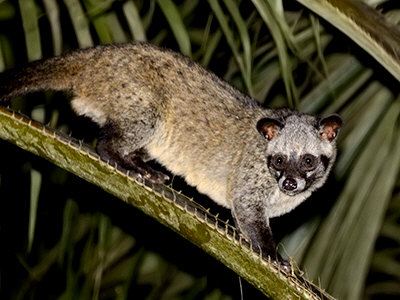Civet: (40, 36, 349, 273)
